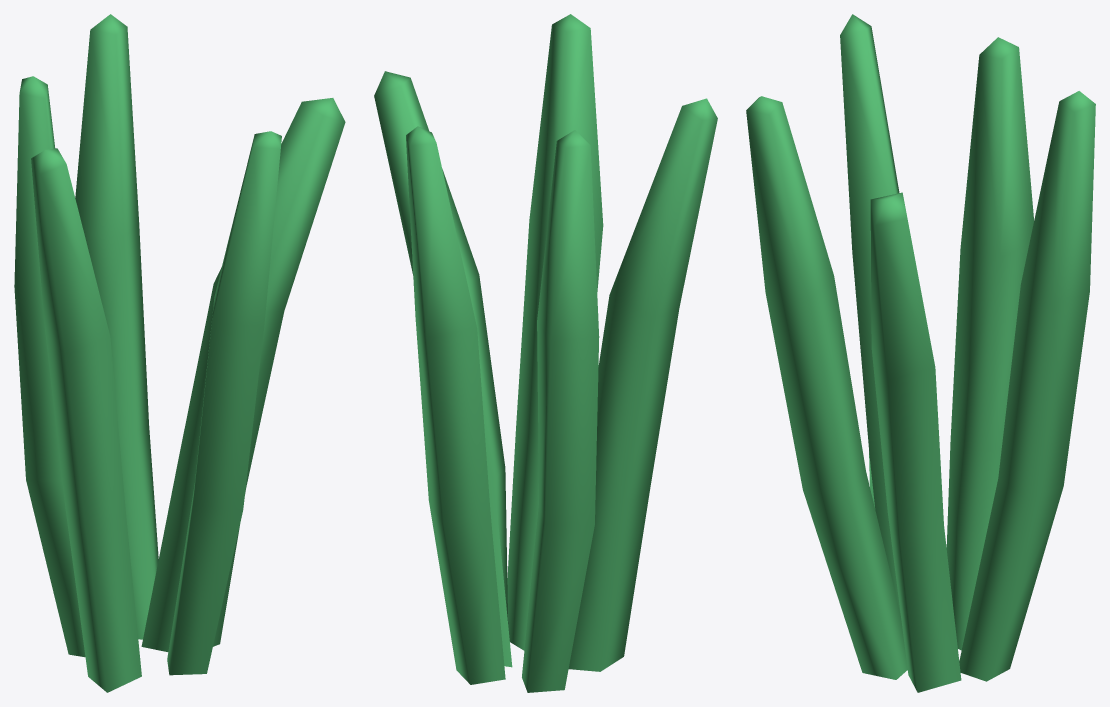
The model's file is Grass_B_06_LOD2.gltf.
3 renders of one model, left to right at view 1: azimuth 30°, elevation 25°; view 2: azimuth 150°, elevation 25°; view 3: azimuth 270°, elevation 25°, orthographic.
Visible parts, largest first — view 1: Grass_B_06_LOD2_Cube.712; view 2: Grass_B_06_LOD2_Cube.712; view 3: Grass_B_06_LOD2_Cube.712.
Boxes of the visible parts, box(x1,y1,x2,y2) form: Grass_B_06_LOD2_Cube.712: box(14, 14, 345, 692); Grass_B_06_LOD2_Cube.712: box(374, 14, 717, 692); Grass_B_06_LOD2_Cube.712: box(746, 14, 1095, 692).
Bounding box in the file's own units: 3.17 × 5.5 × 2.97.
1 material, 1 textured.
